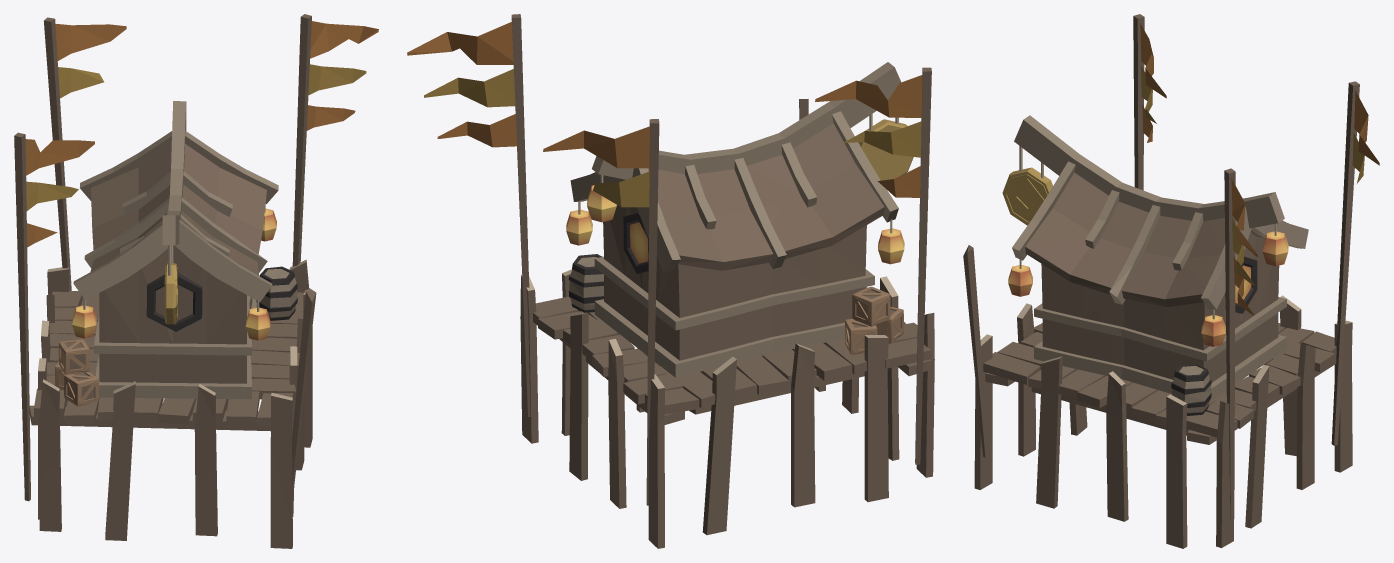
The model's file is gamblingDen.fbx.
3 views of the same model, side by side, from view 1: azimuth 30°, elevation 25°; view 2: azimuth 150°, elevation 25°; view 3: azimuth 270°, elevation 25° (orthographic). The views are drawn at different scales.
Visible parts, largest first — view 1: gamblingDen; view 2: gamblingDen; view 3: gamblingDen.
Boxes of the visible parts, box(x1,y1,x2,y2) form: gamblingDen: box(14, 14, 378, 548); gamblingDen: box(407, 14, 934, 548); gamblingDen: box(963, 14, 1379, 548).
Bounding box in the file's own units: 3.5 × 3.15 × 3.07.
